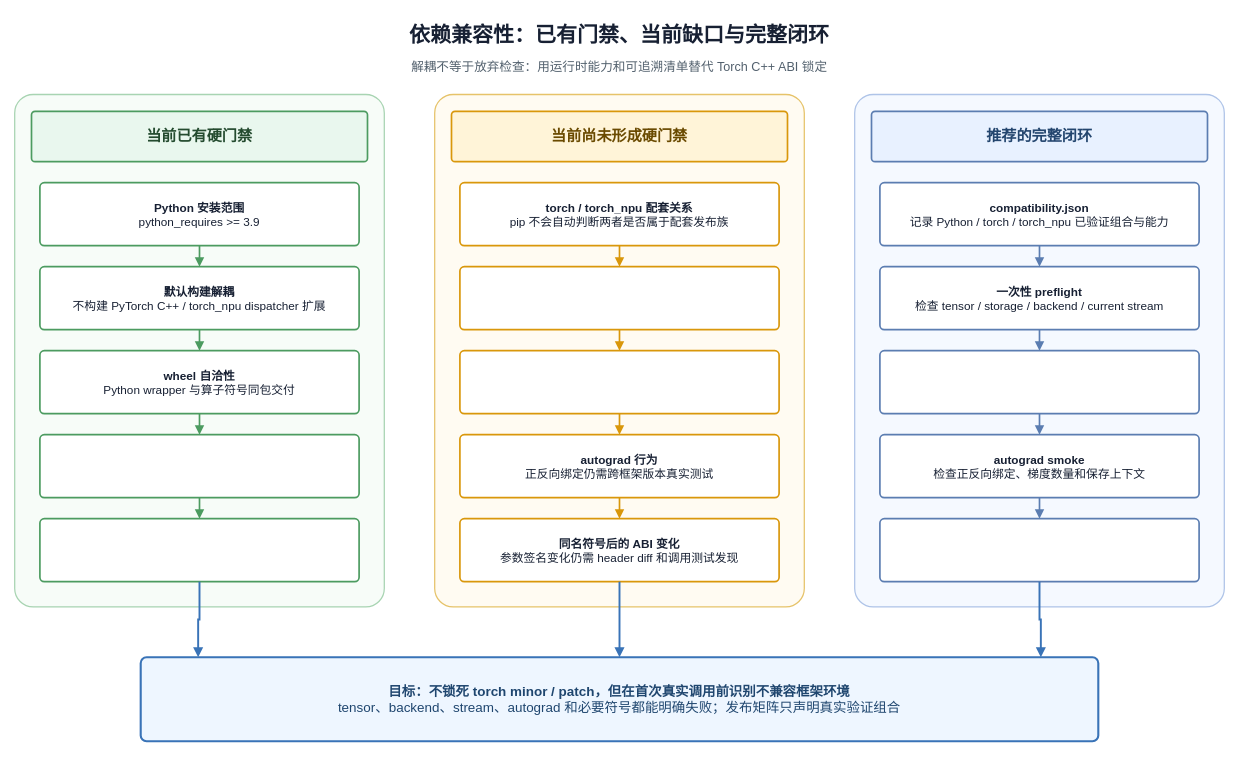
Image size: 1240x757. Some labels were removed from this diagram. Each missing label, with the centre of its shape:
backend / stream 能力 普通 import 不会执行真实 NPU smoke: point (619, 297)
tensor / storage API 演进 py3-none-any 不会自动证明 Python 能力兼容: point (619, 381)
动态加载 绝对路径 + RTLD_NOW 暴露缺库和缺符号: point (199, 465)
框架测试矩阵 CI 只声明真实跑通的 Python / torch / torch_npu 组合: point (1039, 549)
符号和 ABI 指纹 检查公共 ACL、aclnn 符号与 header 清单: point (1039, 381)
调用检查 NPU tensor / dtype / storage / stream / 返回值: point (199, 549)
